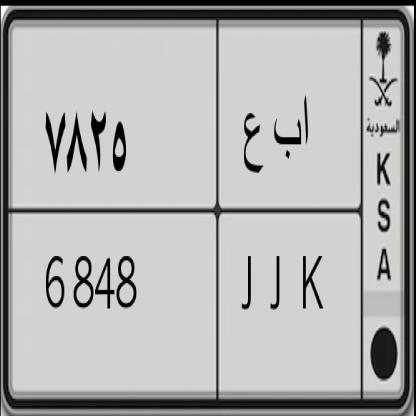english: (5, 207, 366, 400)
